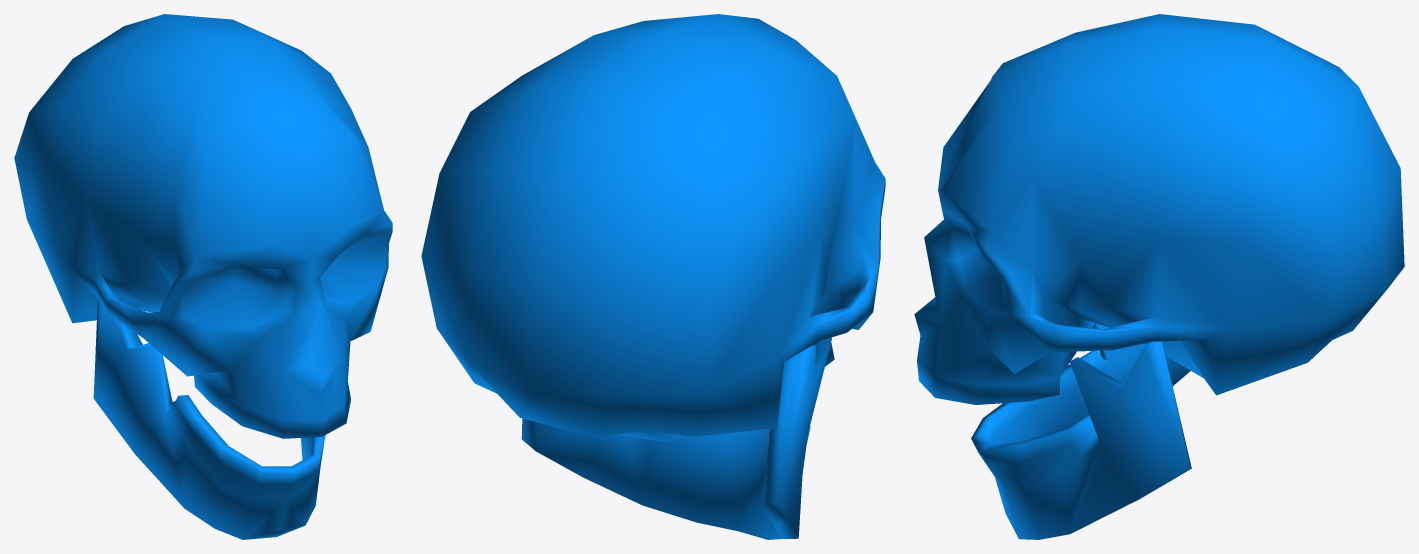
File: Skull.fbx
The picture shows the model from 3 angles, left to right: view 1: azimuth 30°, elevation 25°; view 2: azimuth 150°, elevation 25°; view 3: azimuth 270°, elevation 25°; orthographic projection. The views are drawn at different scales.
Parts seen in each view (by area): view 1: Skull_Head, Skull_Jaw; view 2: Skull_Head, Skull_Jaw; view 3: Skull_Head, Skull_Jaw.
Part boxes in pixels (bbox=[...]): Skull_Head: bbox=[14, 14, 392, 438]; Skull_Jaw: bbox=[93, 297, 325, 539]; Skull_Head: bbox=[421, 14, 885, 442]; Skull_Jaw: bbox=[521, 337, 831, 539]; Skull_Head: bbox=[914, 14, 1404, 404]; Skull_Jaw: bbox=[971, 323, 1191, 539].
Size of the model in its own units: 136 by 220 by 195.
